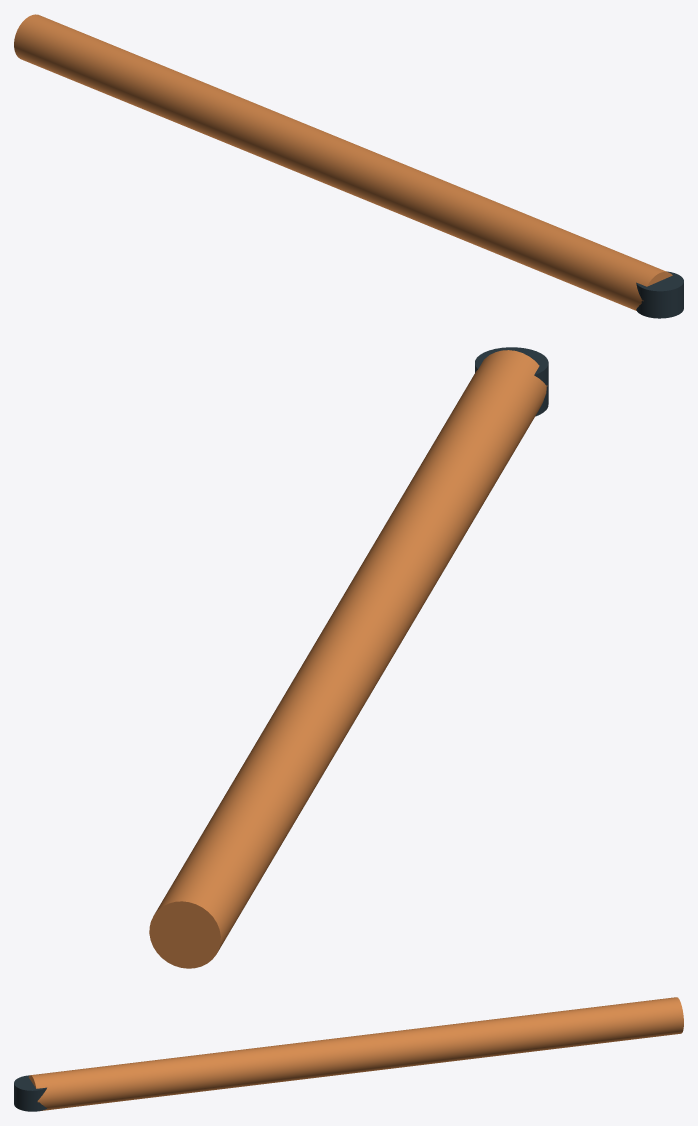
File: pencil.glb
The picture shows the model from 3 angles, top to bottom: view 1: azimuth 30°, elevation 25°; view 2: azimuth 150°, elevation 25°; view 3: azimuth 270°, elevation 25°; orthographic projection. The views are drawn at different scales.
Visible parts, largest first — view 1: pencil; view 2: pencil; view 3: pencil.
Part boxes in pixels (left/top/right/bottom): pencil: left=14, top=14, right=683, bottom=318; pencil: left=149, top=347, right=548, bottom=968; pencil: left=14, top=997, right=683, bottom=1111.
Size of the model in its own units: 0.1435 by 0.0239 by 0.4353.
